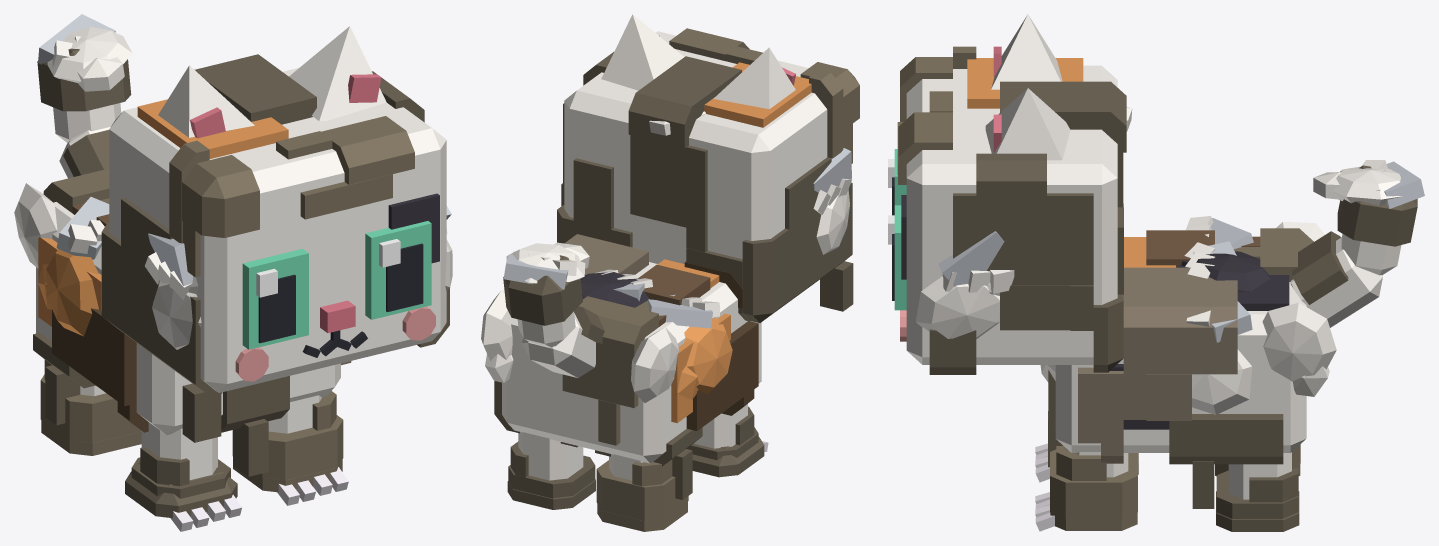
File: CleanACat_Cat_Patches_Dirty.fbx
3 views of the same model, side by side, from view 1: azimuth 30°, elevation 25°; view 2: azimuth 150°, elevation 25°; view 3: azimuth 270°, elevation 25° (orthographic). The views are drawn at different scales.
Visible parts, largest first — view 1: CleanACat_Cat_Patches_Dirty_Head, CleanACat_Cat_Patches_Dirty_Mud01, CleanACat_Cat_Patches_Dirty_Mud06, CleanACat_Cat_Patches_Dirty_Mud03, CleanACat_Cat_Patches_Dirty_Body, CleanACat_Cat_Patches_Dirty_Eye2, CleanACat_Cat_Patches_Dirty_Eye1, CleanACat_Cat_Patches_Dirty_Mud10, CleanACat_Cat_Patches_Dirty_Mud15, CleanACat_Cat_Patches_Dirty_Mud04, CleanACat_Cat_Patches_Dirty_EarL, CleanACat_Cat_Patches_Dirty_Mud16 (+18 smaller); view 2: CleanACat_Cat_Patches_Dirty_Head, CleanACat_Cat_Patches_Dirty_Body, CleanACat_Cat_Patches_Dirty_Mud04, CleanACat_Cat_Patches_Dirty_Mud01, CleanACat_Cat_Patches_Dirty_Mud09, CleanACat_Cat_Patches_Dirty_Mud18, CleanACat_Cat_Patches_Dirty_Mud10, CleanACat_Cat_Patches_Dirty_Mud05, CleanACat_Cat_Patches_Dirty_Tail, CleanACat_Cat_Patches_Dirty_EarL, CleanACat_Cat_Patches_Dirty_Mud06, CleanACat_Cat_Patches_Dirty_Mud17 (+23 smaller); view 3: CleanACat_Cat_Patches_Dirty_Head, CleanACat_Cat_Patches_Dirty_Mud02, CleanACat_Cat_Patches_Dirty_Mud08, CleanACat_Cat_Patches_Dirty_Body, CleanACat_Cat_Patches_Dirty_Mud11, CleanACat_Cat_Patches_Dirty_Mud15, CleanACat_Cat_Patches_Dirty_Mud04, CleanACat_Cat_Patches_Dirty_Fluff09, CleanACat_Cat_Patches_Dirty_Mud17, CleanACat_Cat_Patches_Dirty_Tail, CleanACat_Cat_Patches_Dirty_EarL, CleanACat_Cat_Patches_Dirty_Mud13 (+20 smaller).
Part boxes in pixels (<box>): CleanACat_Cat_Patches_Dirty_Head: <box>109,68,446,392</box>; CleanACat_Cat_Patches_Dirty_Mud01: <box>101,198,222,442</box>; CleanACat_Cat_Patches_Dirty_Mud06: <box>169,140,259,277</box>; CleanACat_Cat_Patches_Dirty_Mud03: <box>276,116,414,219</box>; CleanACat_Cat_Patches_Dirty_Body: <box>36,202,340,435</box>; CleanACat_Cat_Patches_Dirty_Eye2: <box>242,248,308,349</box>; CleanACat_Cat_Patches_Dirty_Eye1: <box>365,221,431,319</box>; CleanACat_Cat_Patches_Dirty_Mud10: <box>52,308,148,432</box>; CleanACat_Cat_Patches_Dirty_Mud15: <box>232,391,343,492</box>; CleanACat_Cat_Patches_Dirty_Mud04: <box>194,54,316,124</box>; CleanACat_Cat_Patches_Dirty_EarL: <box>289,26,386,121</box>; CleanACat_Cat_Patches_Dirty_Mud16: <box>125,447,237,518</box>; CleanACat_Cat_Patches_Dirty_Head: <box>564,31,851,263</box>; CleanACat_Cat_Patches_Dirty_Body: <box>502,259,761,463</box>; CleanACat_Cat_Patches_Dirty_Mud04: <box>628,56,741,252</box>; CleanACat_Cat_Patches_Dirty_Mud01: <box>686,157,853,322</box>; CleanACat_Cat_Patches_Dirty_Mud09: <box>562,296,658,445</box>; CleanACat_Cat_Patches_Dirty_Mud18: <box>596,459,688,531</box>; CleanACat_Cat_Patches_Dirty_Mud10: <box>684,261,758,430</box>; CleanACat_Cat_Patches_Dirty_Mud05: <box>557,158,632,247</box>; CleanACat_Cat_Patches_Dirty_Tail: <box>517,311,595,377</box>; CleanACat_Cat_Patches_Dirty_EarL: <box>601,14,683,90</box>; CleanACat_Cat_Patches_Dirty_Mud06: <box>800,62,859,163</box>; CleanACat_Cat_Patches_Dirty_Mud17: <box>507,441,595,509</box>; CleanACat_Cat_Patches_Dirty_Head: <box>900,58,1117,364</box>; CleanACat_Cat_Patches_Dirty_Mud02: <box>929,153,1093,374</box>; CleanACat_Cat_Patches_Dirty_Mud08: <box>1123,267,1237,420</box>; CleanACat_Cat_Patches_Dirty_Body: <box>1055,237,1306,452</box>; CleanACat_Cat_Patches_Dirty_Mud11: <box>1169,414,1283,508</box>; CleanACat_Cat_Patches_Dirty_Mud15: <box>1050,446,1137,530</box>; CleanACat_Cat_Patches_Dirty_Mud04: <box>1000,81,1126,207</box>; CleanACat_Cat_Patches_Dirty_Fluff09: <box>1262,302,1336,396</box>; CleanACat_Cat_Patches_Dirty_Mud17: <box>1216,468,1299,531</box>; CleanACat_Cat_Patches_Dirty_Tail: <box>1290,234,1401,327</box>; CleanACat_Cat_Patches_Dirty_EarL: <box>985,88,1070,160</box>; CleanACat_Cat_Patches_Dirty_Mud13: <box>1078,367,1123,463</box>.
Bounding box in the file's own units: 1.13 × 1.86 × 2.03.
Materials: 1 (1 with a texture image).
